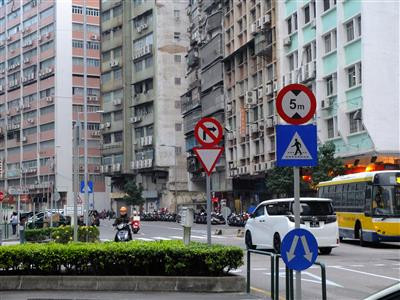5mHeightLimit: (275, 81, 315, 124)
keepLeftRight: (279, 226, 320, 272)
noRightTurn: (193, 116, 222, 147)
pedestrianCrossing: (274, 122, 320, 168)
yield: (190, 145, 225, 175)
